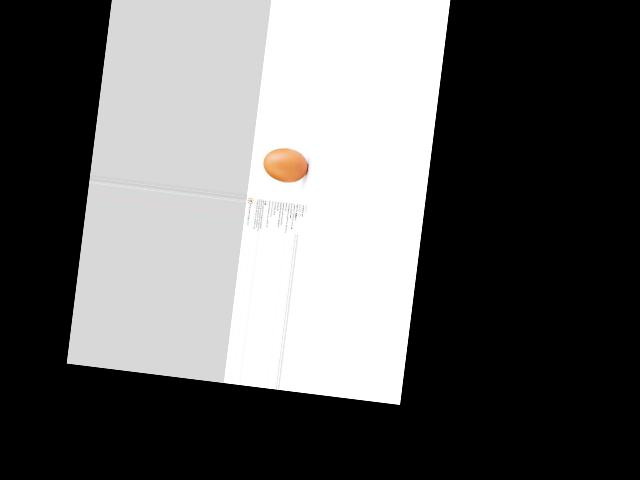egg: (261, 145, 309, 184)
